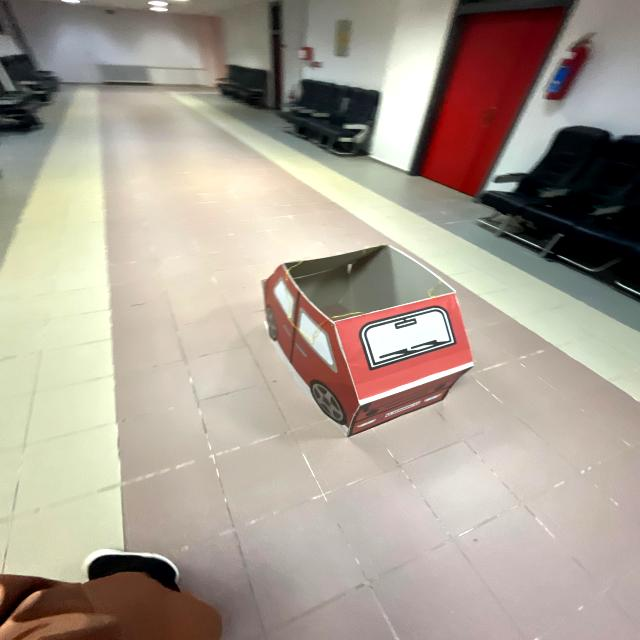red_car: (231, 235, 497, 446)
